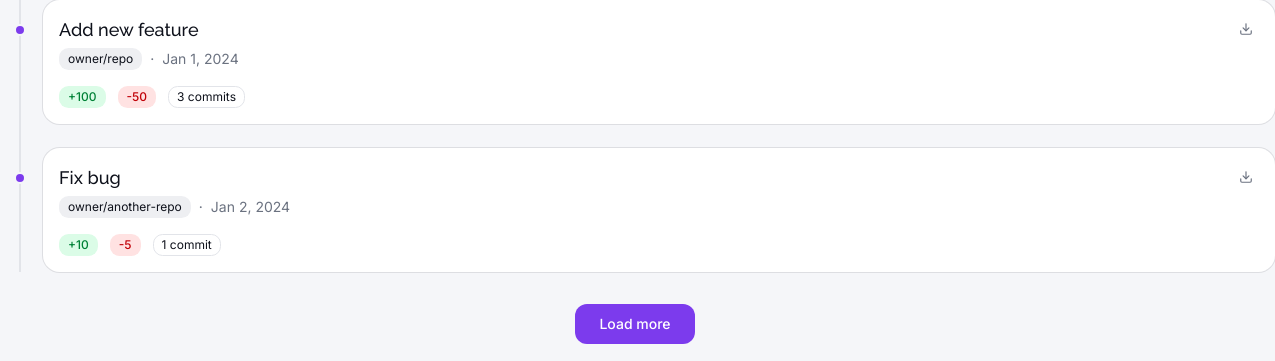
Test: FeedClient › should show loading state when loading more PRs
The width and height of the screenshot is (1275, 361).
Click the button "Load more": click(635, 324) [575, 304, 694, 344]
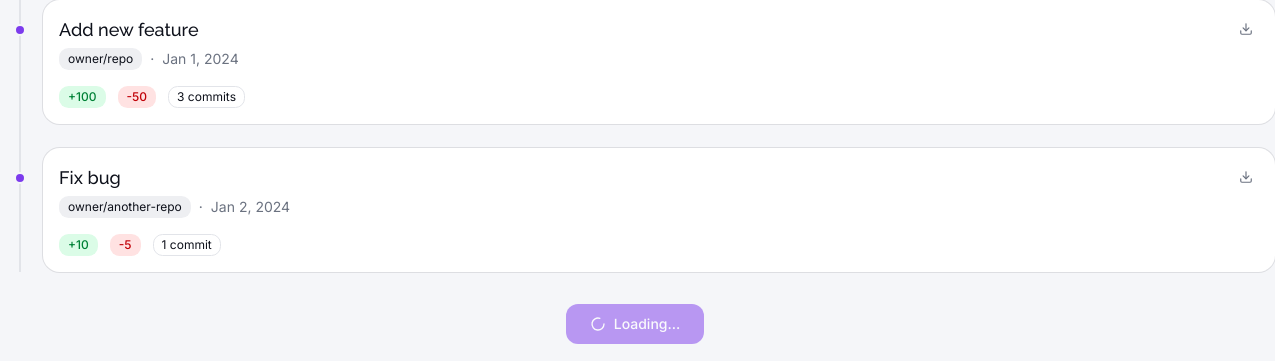
Now the button "Loading..." is shown, box [566, 304, 704, 344]
